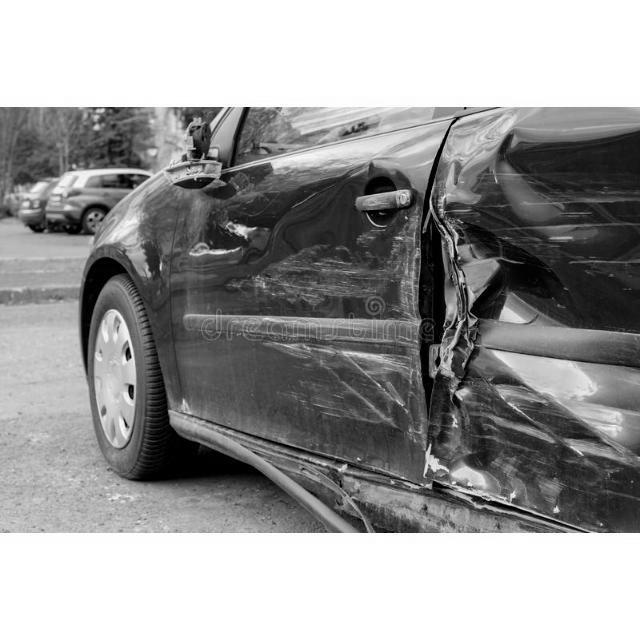Runningboard-Damage: (333, 480, 593, 532)
